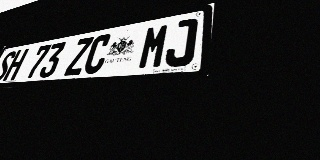3: (37, 41, 67, 78)
7: (24, 44, 52, 79)
C: (81, 33, 113, 75)
H: (2, 48, 29, 81)
J: (163, 18, 198, 68)
M: (137, 23, 171, 70)
S: (0, 50, 18, 82)
Z: (63, 36, 94, 76)
